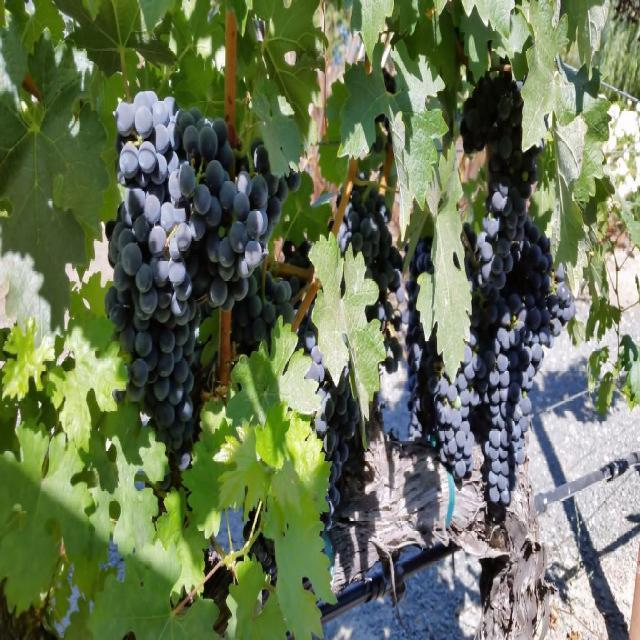Grape: (106, 92, 312, 484), (407, 66, 578, 507), (338, 186, 408, 374), (298, 322, 360, 529), (244, 511, 280, 584)
